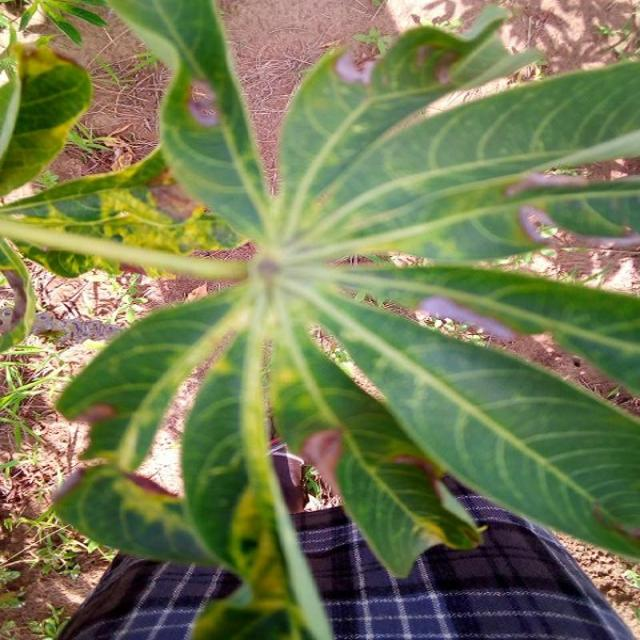cassava leaf: (16, 1, 638, 637)
